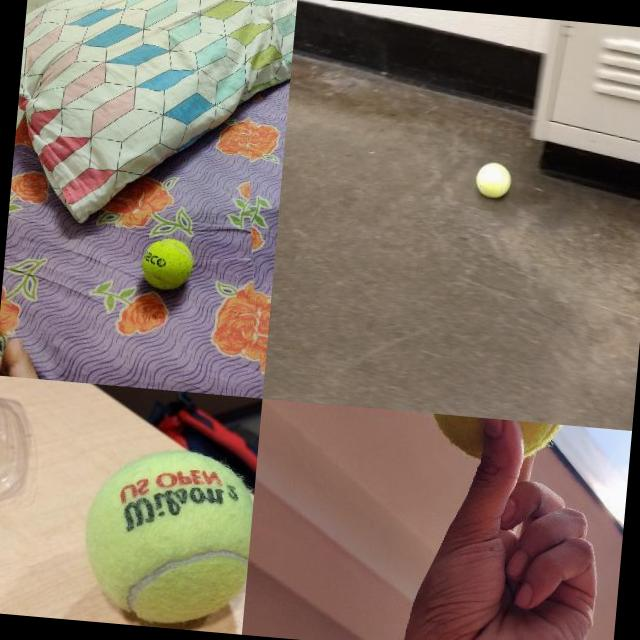Tennis Ball: (77, 440, 257, 632), (422, 413, 570, 468), (140, 236, 194, 292), (474, 160, 514, 199)
